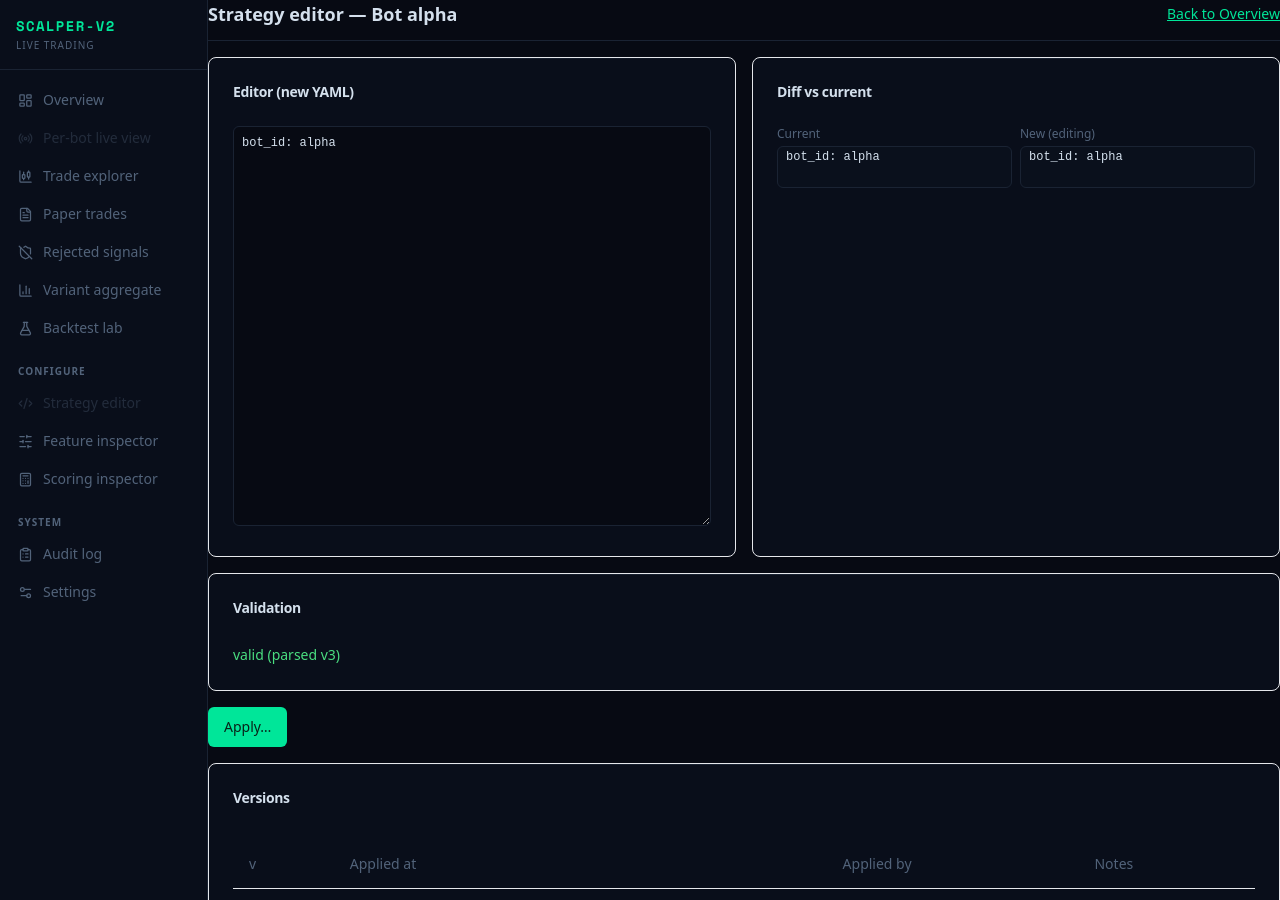
Test: Strategy apply flow (T-416) › apply happy POST 201 — modal closes + BOTH query keys invalidated (per WG#8)
The width and height of the screenshot is (1280, 900).
Step 1. Click the button with test id "apply-button" → (248, 727), box [208,707,287,747]
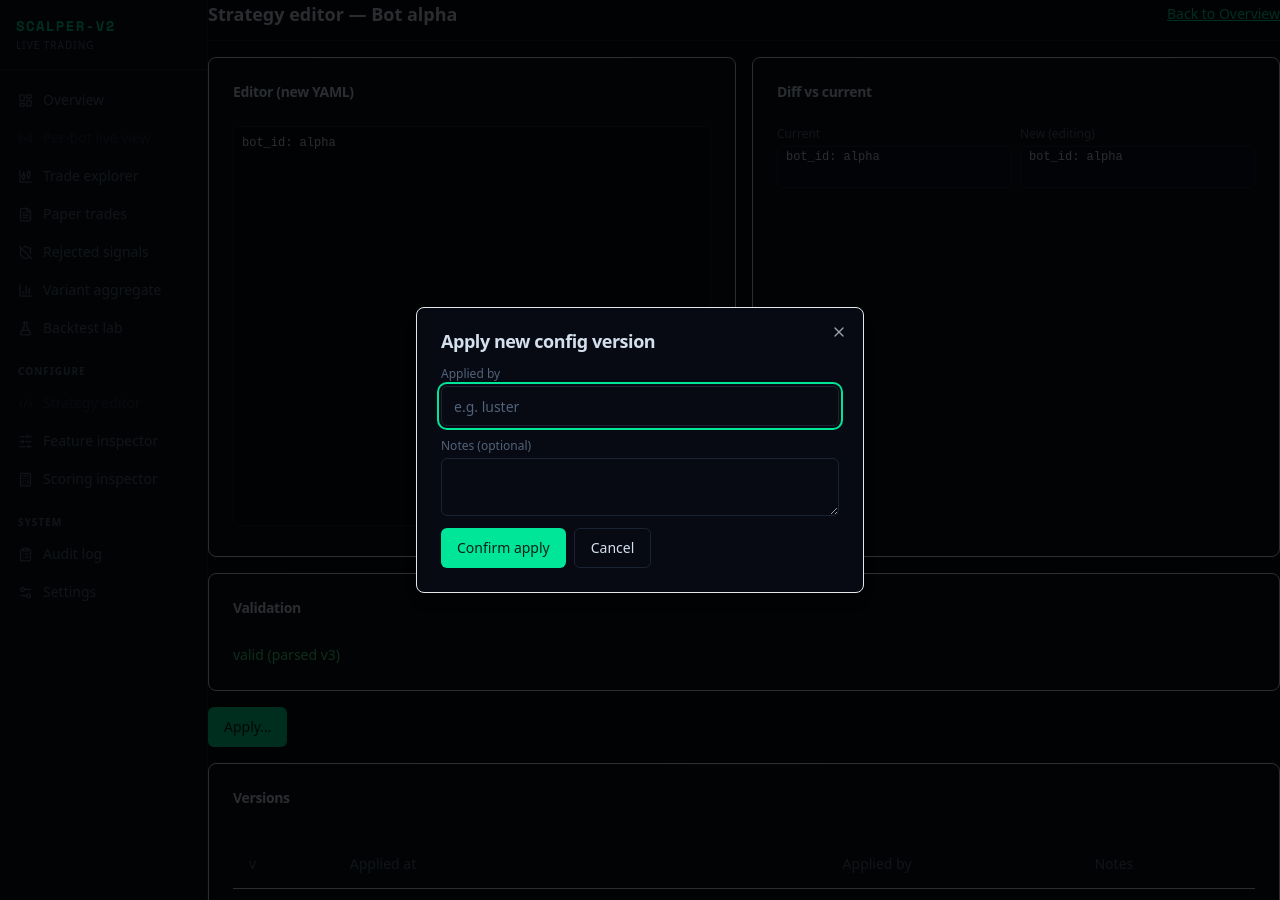
Result: the field with test id "applied-by-input" is shown
Step 2. Type "luster" into the field with test id "applied-by-input" → (640, 406), box [441,386,839,426]
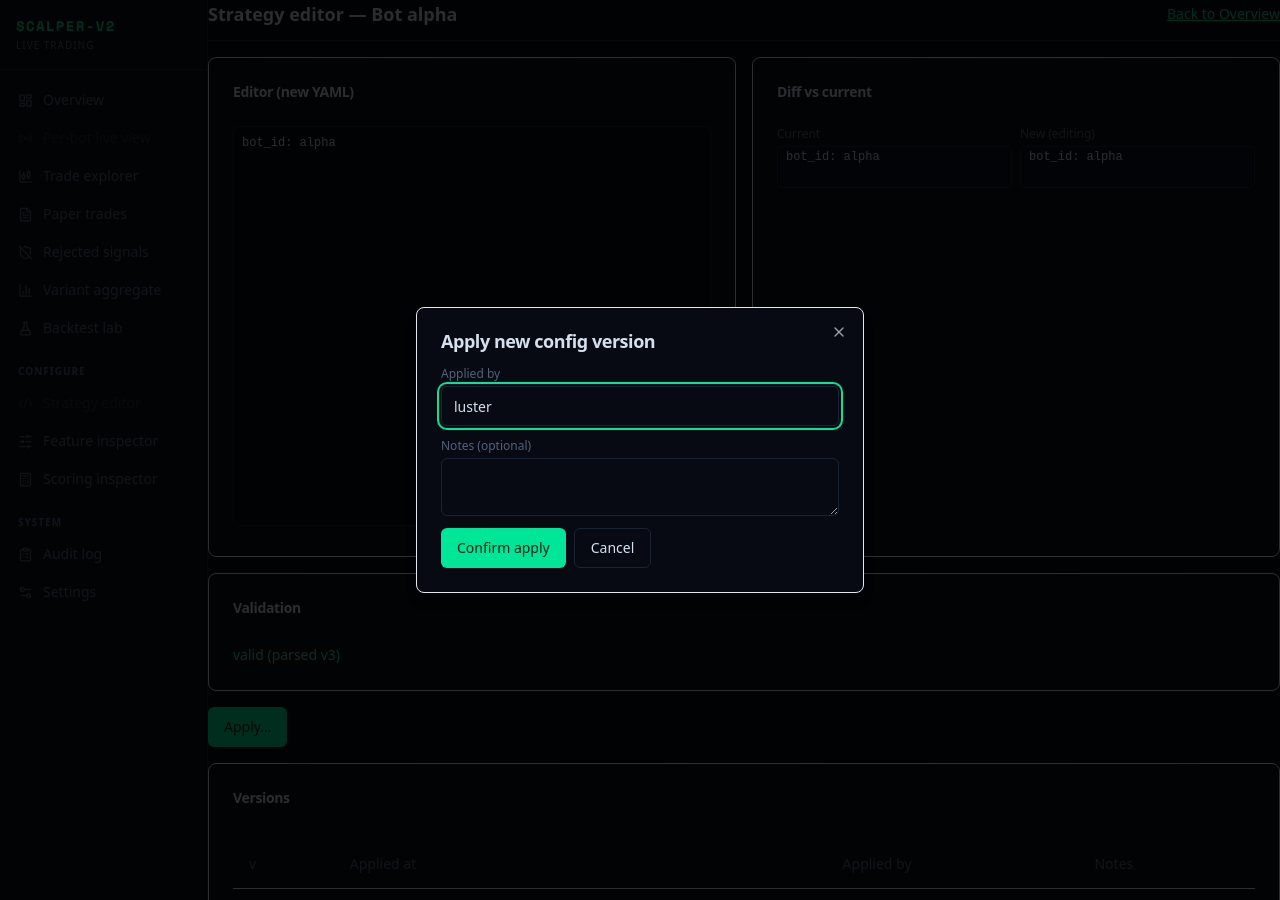
Step 3. Submit the form with test id "apply-confirm", box [441,366,839,568]
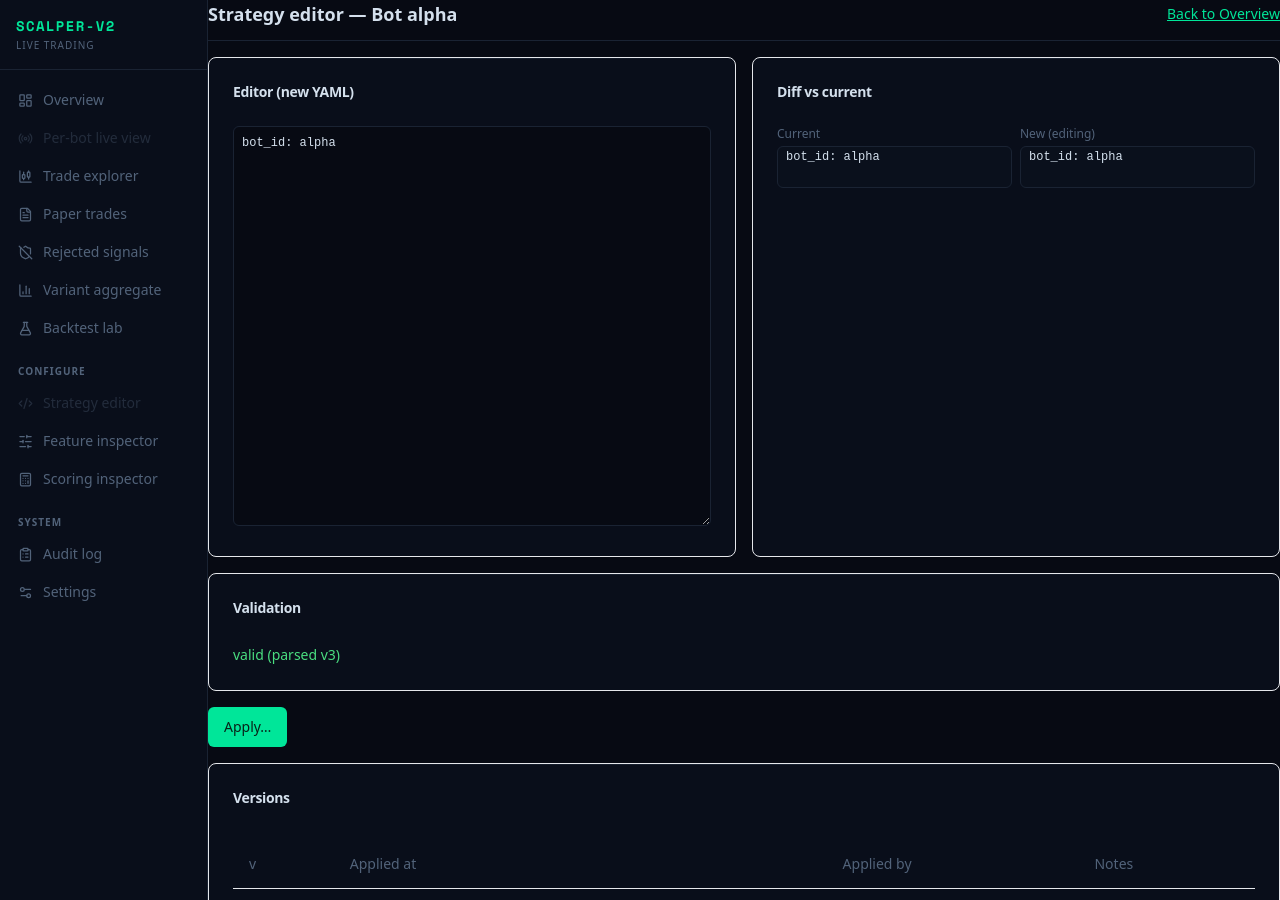
Result: the field with test id "applied-by-input" is gone
